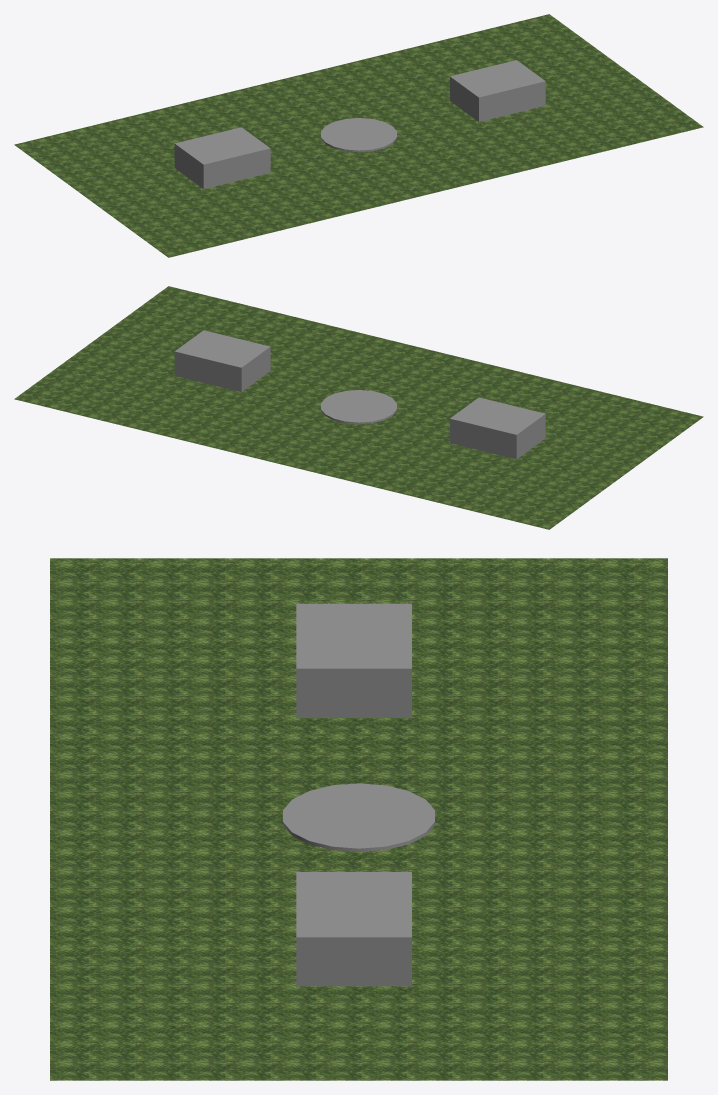
Rendered from dummymap.FBX.
The picture shows the model from 3 angles, top to bottom: view 1: azimuth 30°, elevation 25°; view 2: azimuth 150°, elevation 25°; view 3: azimuth 270°, elevation 25°; orthographic projection. The views are drawn at different scales.
Parts seen in each view (by area): view 1: Box003, Box004, Cylinder001; view 2: Box003, Box004, Cylinder001; view 3: Box003, Box004, Cylinder001.
Part boxes in pixels (left/top/right/bottom): Box003: left=14, top=14, right=703, bottom=257; Box004: left=174, top=60, right=545, bottom=188; Cylinder001: left=321, top=118, right=396, bottom=152; Box003: left=14, top=286, right=703, bottom=529; Box004: left=174, top=330, right=545, bottom=459; Cylinder001: left=321, top=390, right=396, bottom=424; Box003: left=50, top=558, right=667, bottom=1080; Box004: left=296, top=603, right=411, bottom=986; Cylinder001: left=283, top=783, right=434, bottom=851.
Bounding box in the file's own units: 160 × 7 × 80.
